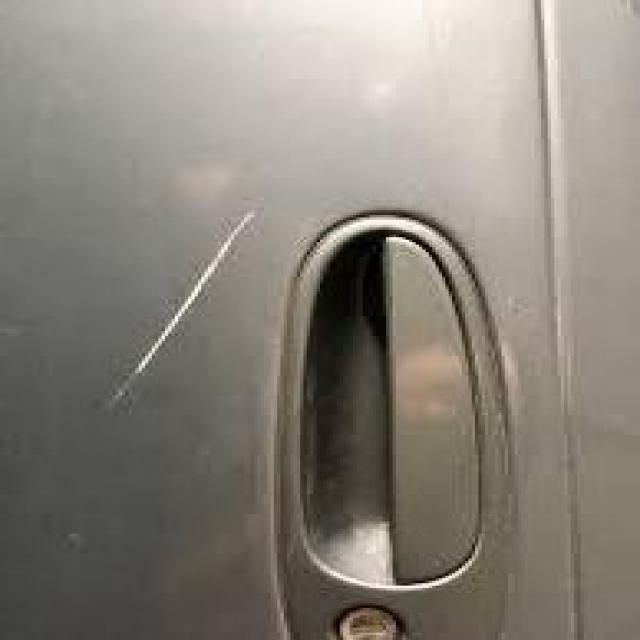scratch: (83, 182, 300, 428)
